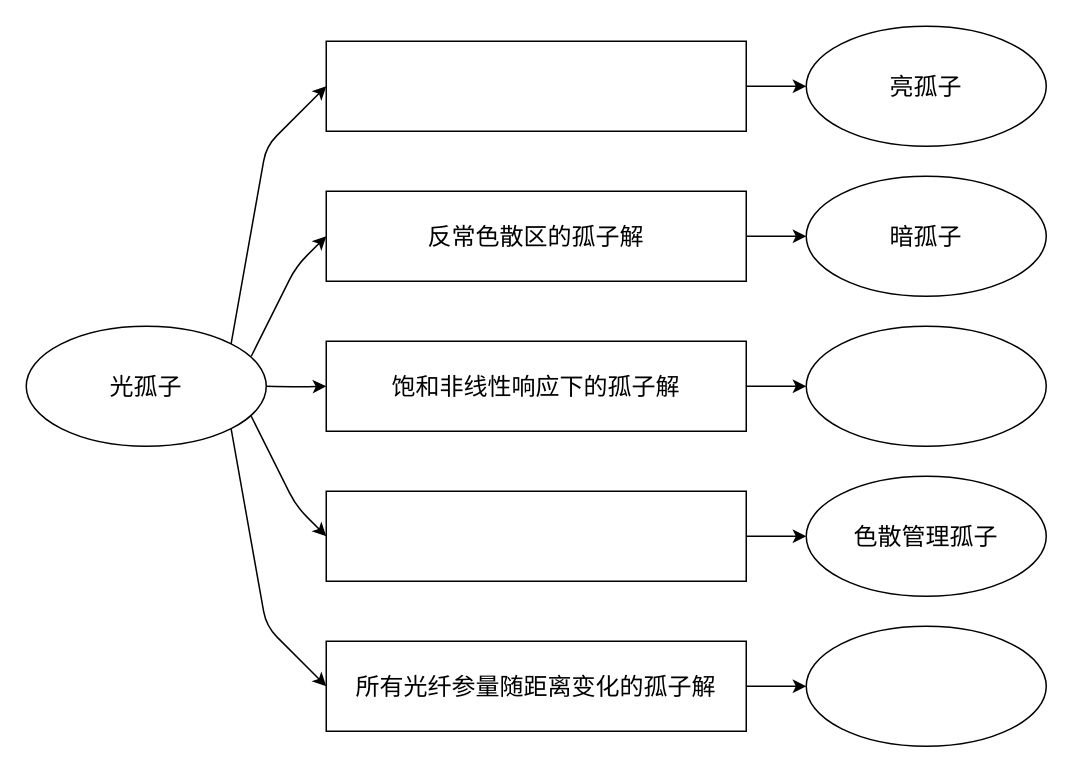
This 1073x773 diagram has some shape labels left out. Each missing label, with the box of its shape:
光相似子: (805, 625, 1046, 746)
双稳孤子: (805, 325, 1046, 446)
多种色散特性光纤组合的孤子解: (325, 490, 746, 581)
正常色散区的孤子解: (325, 40, 746, 131)
